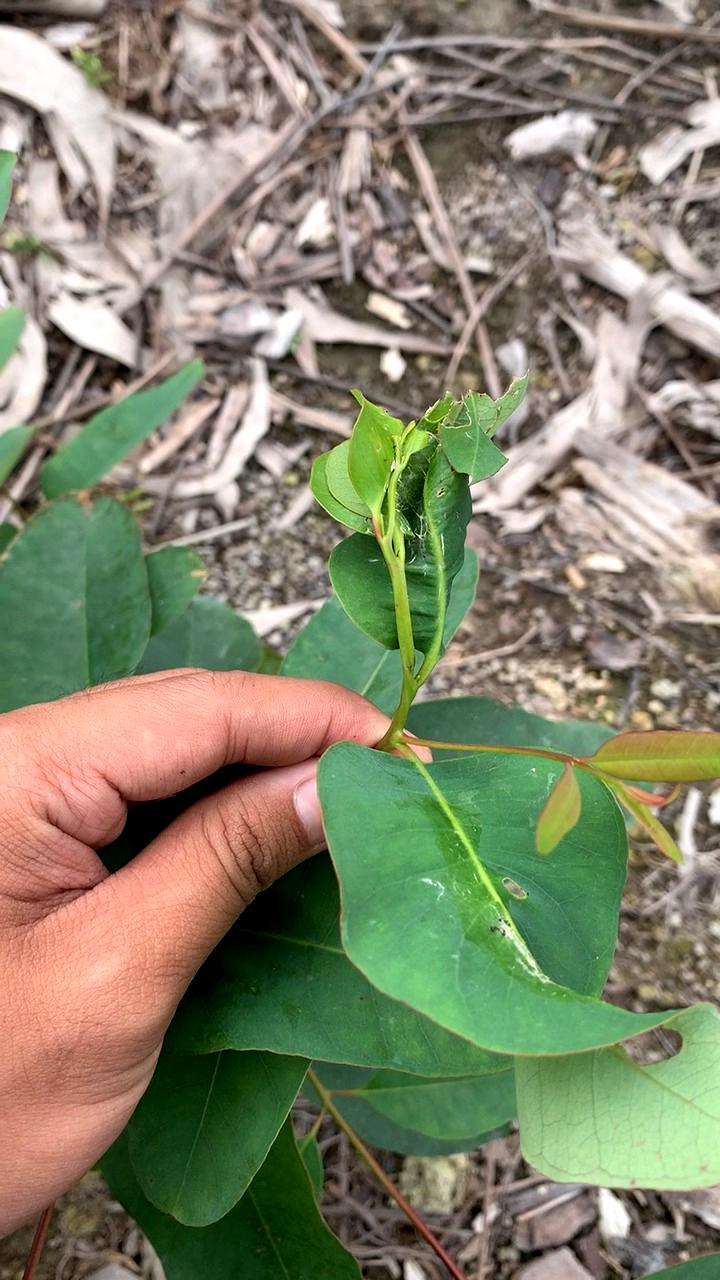Leaf Roller - Leaf: (300, 386, 523, 681)
